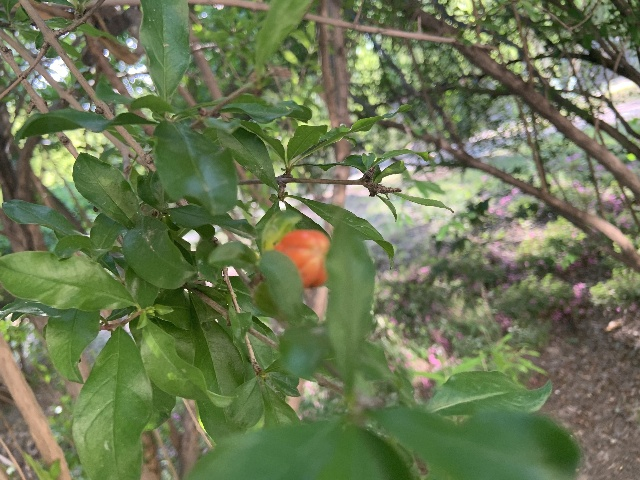bud: (271, 229, 330, 288)
